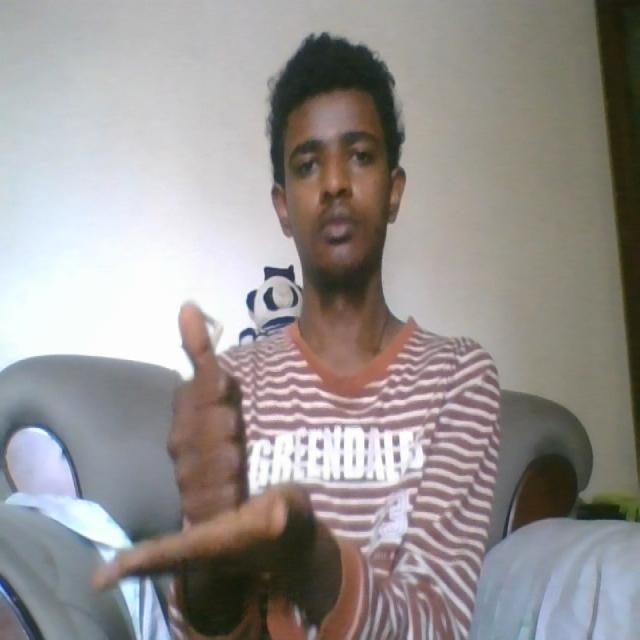amen: (88, 296, 333, 614)
